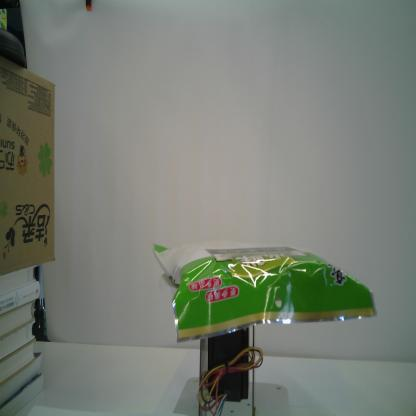Dried Food: (151, 238, 378, 344)
